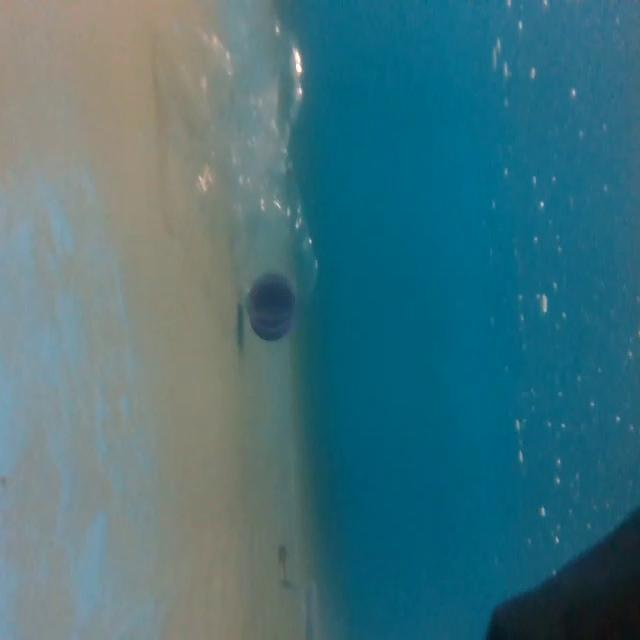plastic bottle: (170, 18, 330, 346)
